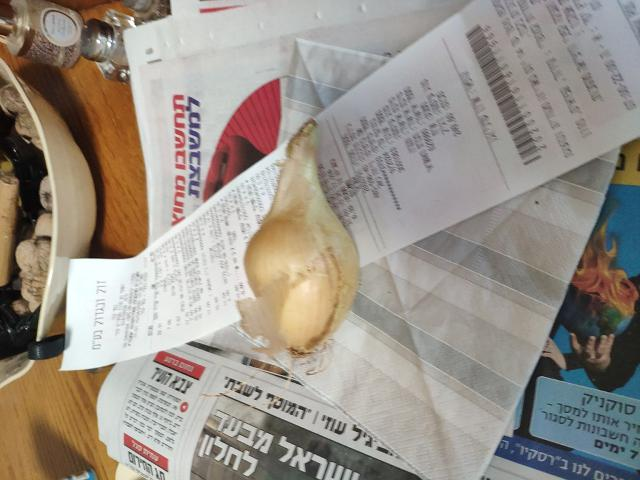onion: (251, 173, 350, 345)
